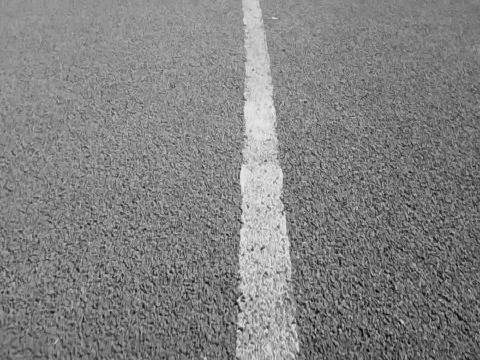Lines: (235, 0, 302, 360)
